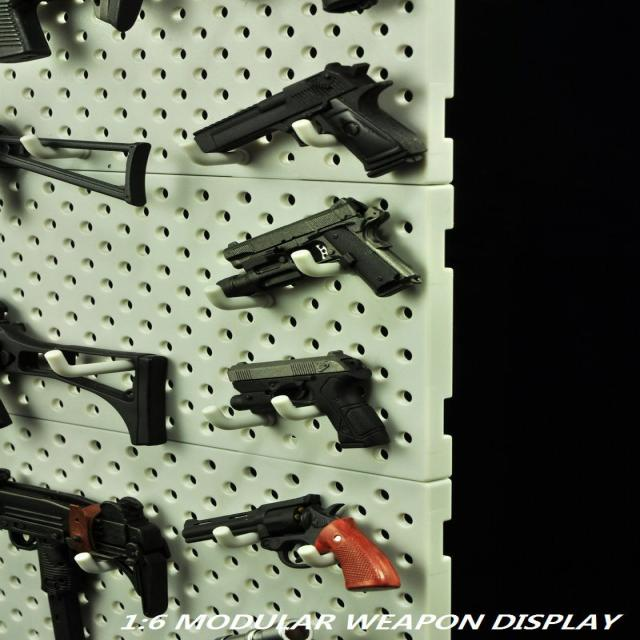HandGun: (191, 63, 425, 176), (182, 494, 402, 593), (224, 201, 413, 298), (227, 350, 390, 450)
SMG: (0, 468, 170, 640)
